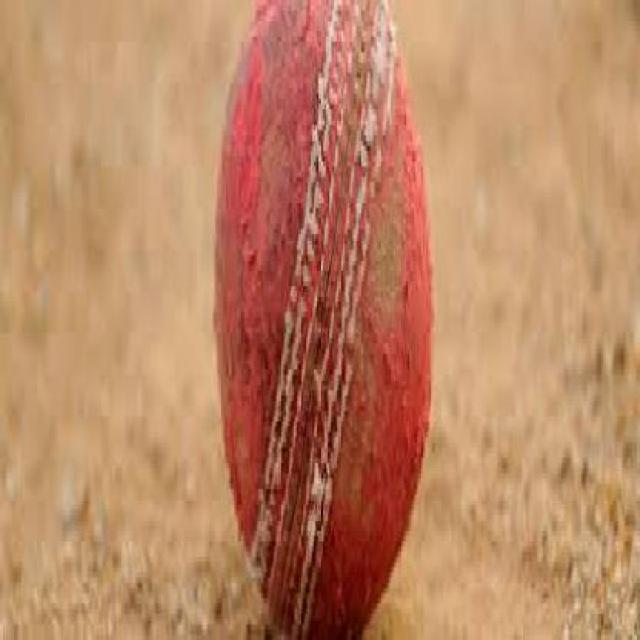ball: (154, 0, 512, 640)
